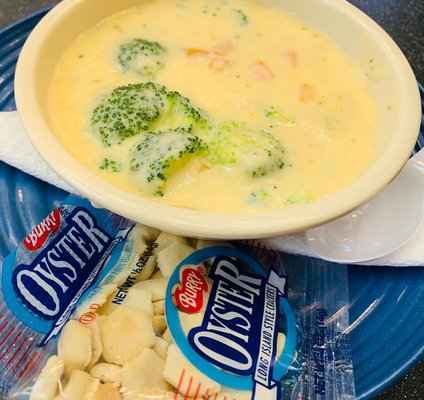curry: (116, 38, 167, 78)
sushi: (7, 0, 423, 243)
